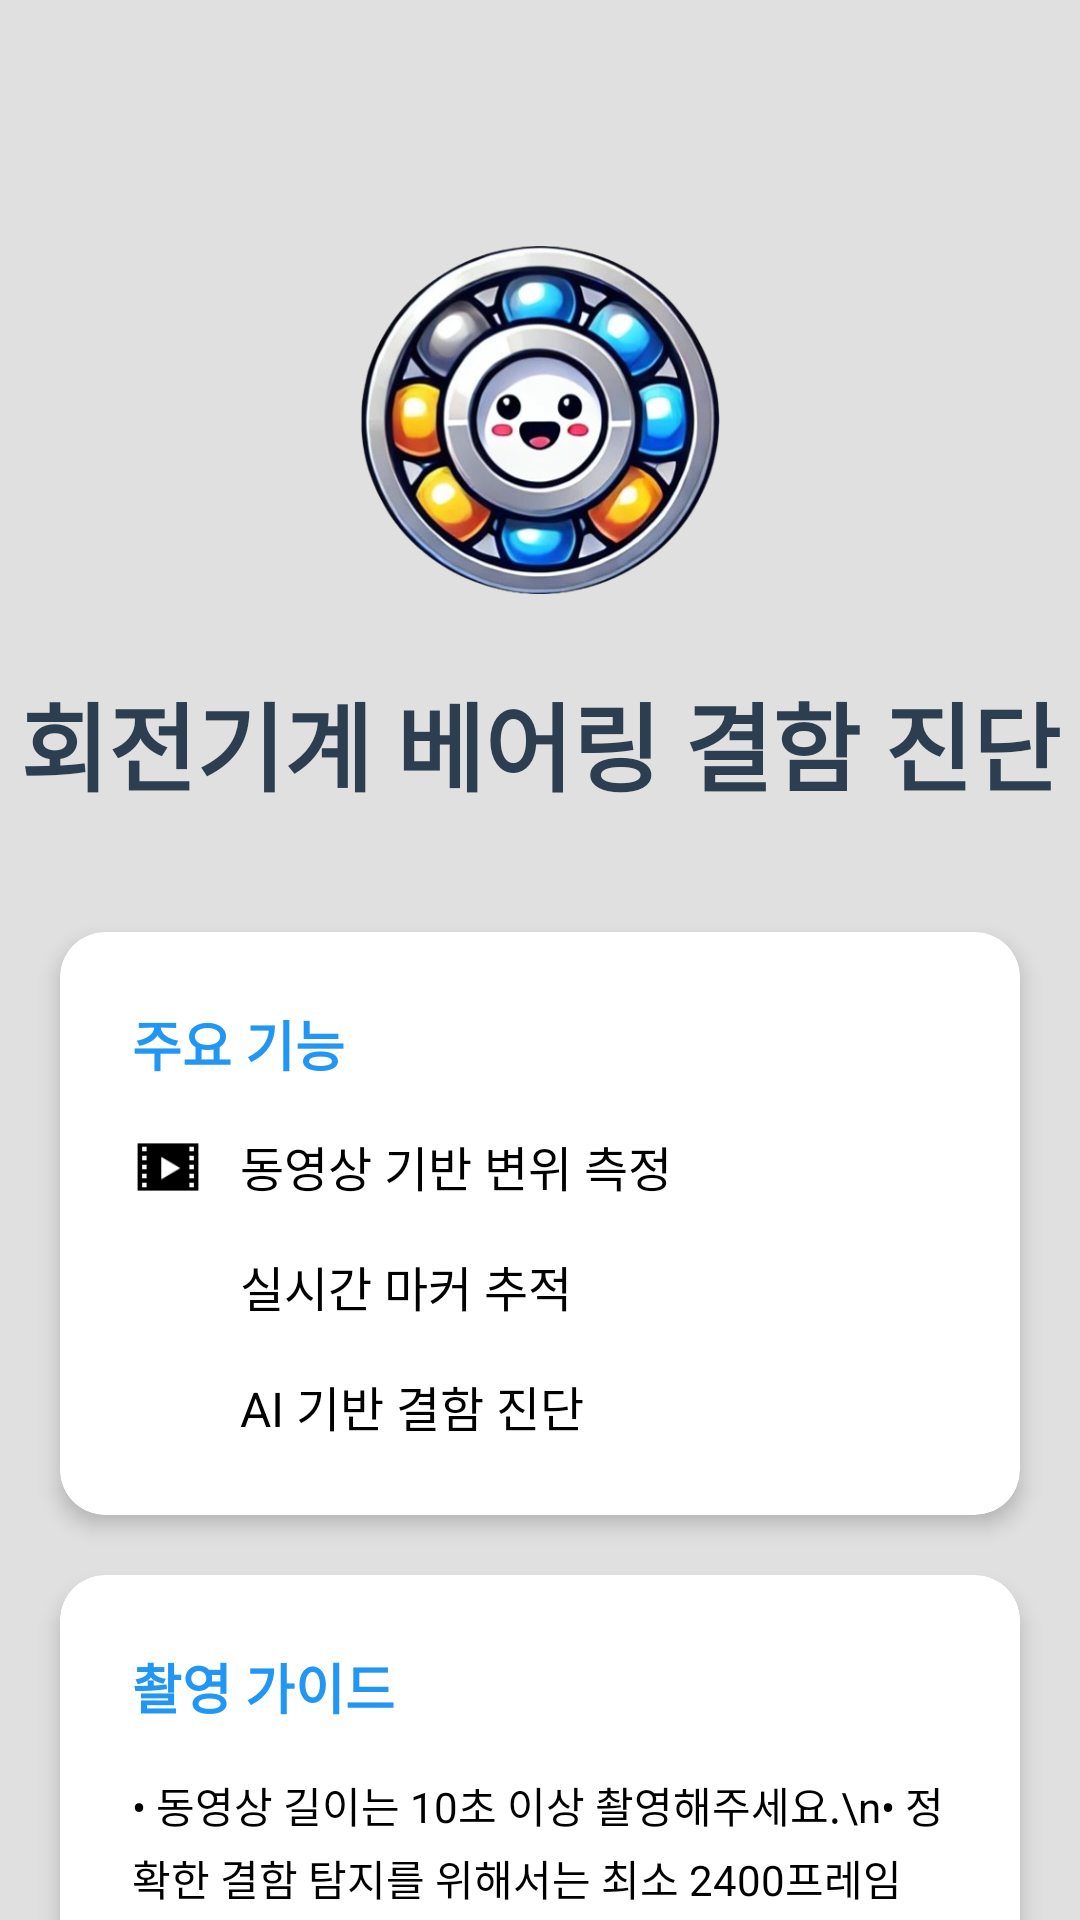

Named icons in this screenshot (1080 × 1920) and their bounding boxes, {"x1": x1, "y1": y1, "x2": x2, "y2": y2}:
video: {"x1": 137, "y1": 1143, "x2": 199, "y2": 1191}
